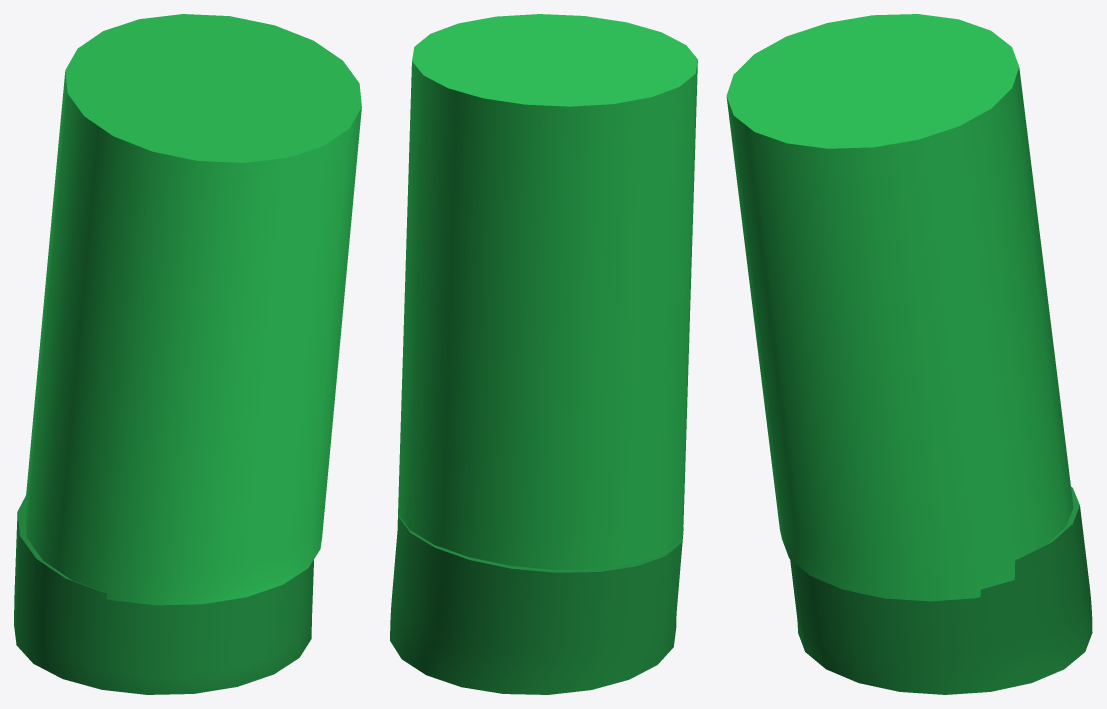
Rendered from Frijolito_PiernaDer.obj.
The picture shows the model from 3 angles, left to right: view 1: azimuth 30°, elevation 25°; view 2: azimuth 150°, elevation 25°; view 3: azimuth 270°, elevation 25°; orthographic projection. The views are drawn at different scales.
Parts seen in each view (by area): view 1: PiernaDer; view 2: PiernaDer; view 3: PiernaDer.
Boxes of the visible parts, x1,y1,x2,y2 form: PiernaDer: [14, 14, 361, 694]; PiernaDer: [390, 14, 697, 694]; PiernaDer: [726, 14, 1092, 694].
Size of the model in its own units: 2.13 by 4.29 by 2.49.
